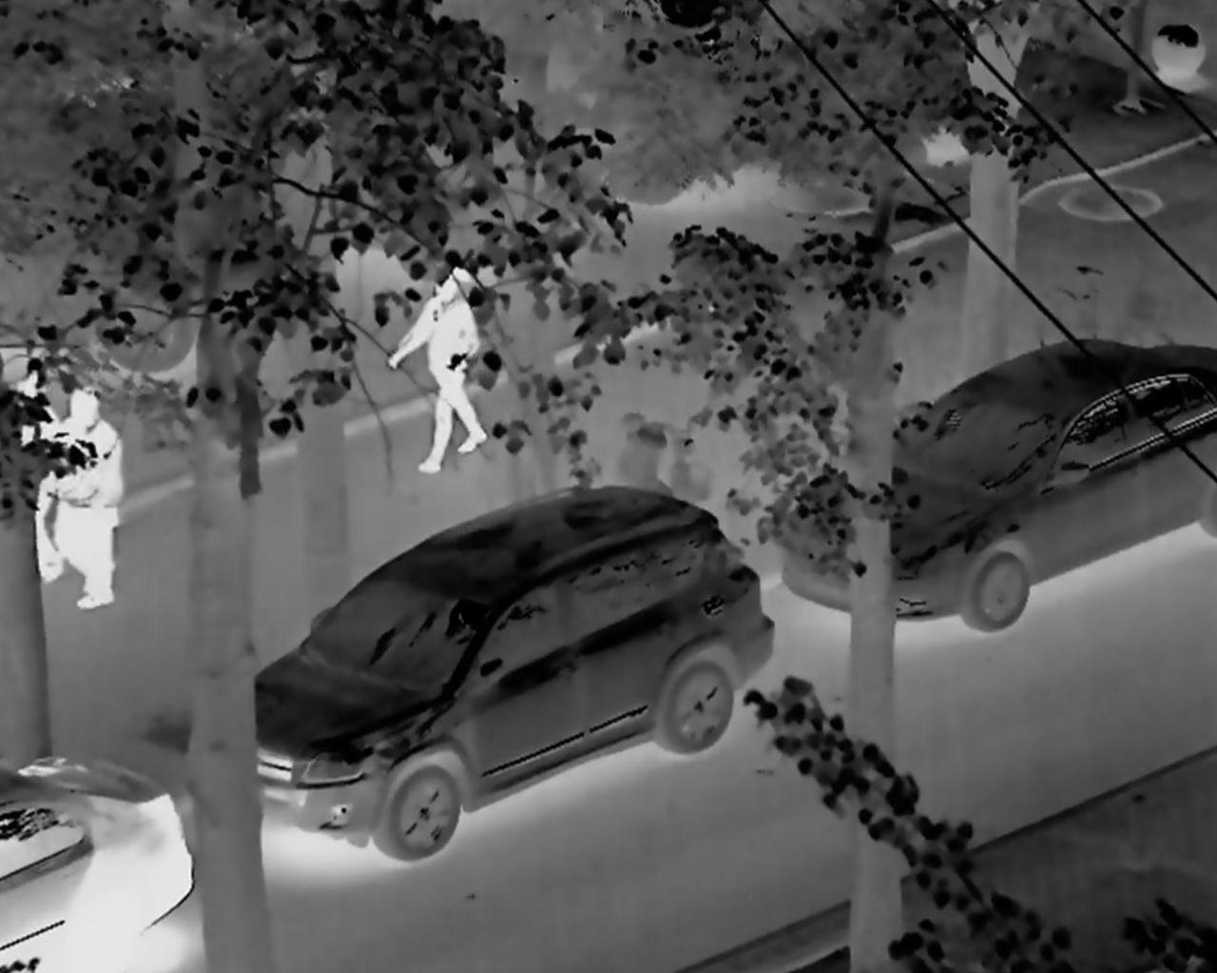person: (371, 245, 520, 489), (34, 382, 139, 604)
